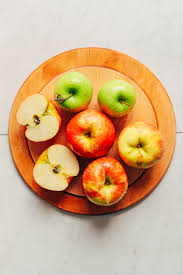apple: (119, 123, 168, 171), (67, 110, 119, 155), (84, 157, 130, 205), (56, 73, 97, 110), (97, 79, 138, 116)
damaged_apple: (30, 145, 79, 192), (20, 96, 61, 144)
